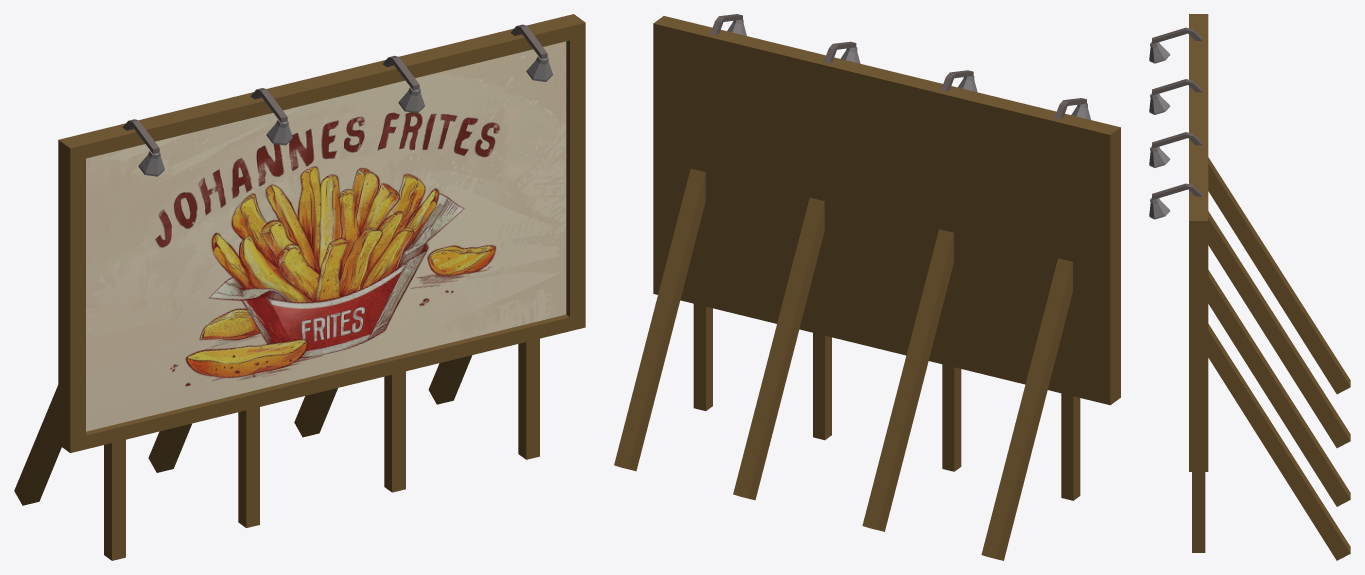
The model's file is BillBoard.fbx.
3 renders of one model, left to right at view 1: azimuth 30°, elevation 25°; view 2: azimuth 150°, elevation 25°; view 3: azimuth 270°, elevation 25°, orthographic. The views are drawn at different scales.
Parts seen in each view (by area): view 1: BillBoard; view 2: BillBoard; view 3: BillBoard.
Boxes of the visible parts, x1,y1,x2,y2 form: BillBoard: (14,14,585,560); BillBoard: (614,14,1120,560); BillBoard: (1149,14,1350,560).
Size of the model in its own units: 662 by 548 by 272.
